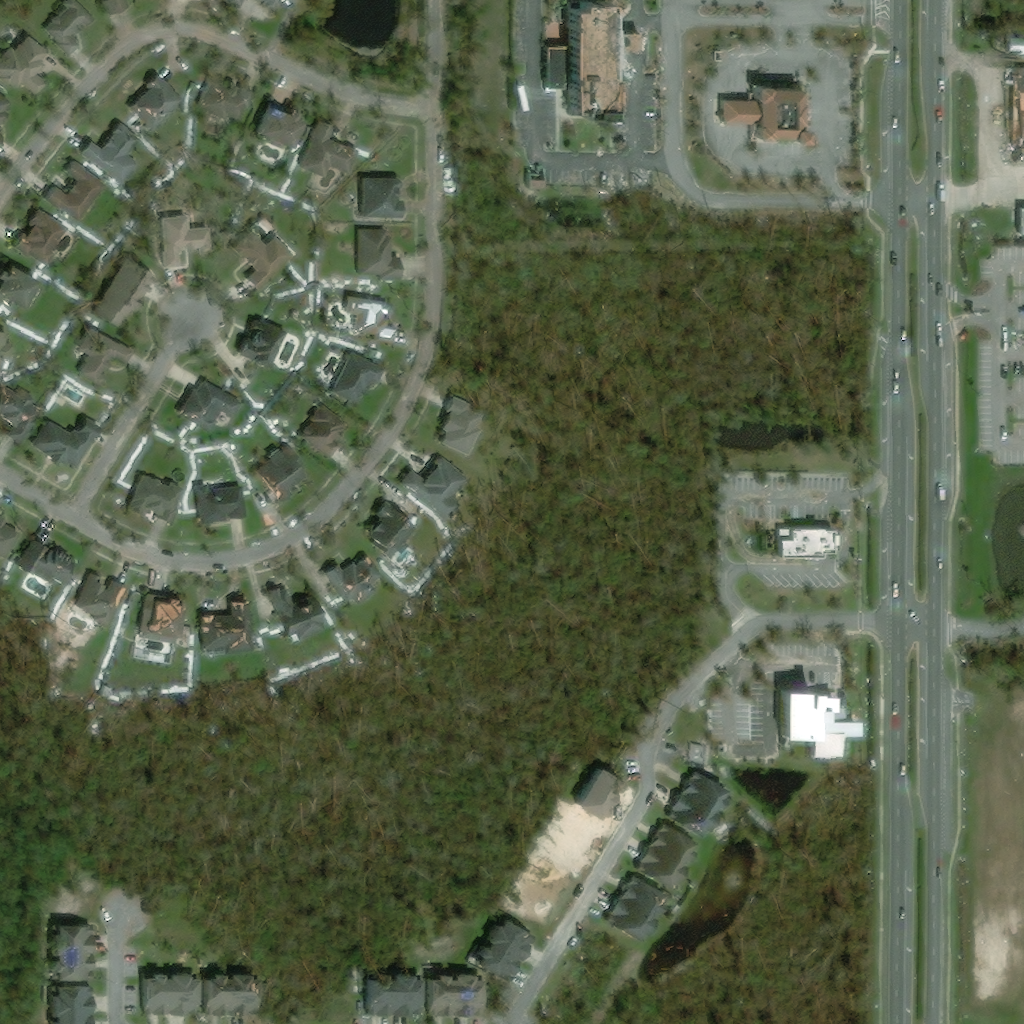minor_damage: (559, 2, 643, 120), (297, 120, 359, 180), (128, 74, 185, 133), (71, 571, 126, 630), (363, 501, 415, 560), (13, 209, 67, 265), (266, 585, 320, 640), (197, 598, 249, 654), (321, 555, 378, 604), (255, 449, 304, 503), (195, 81, 255, 124), (0, 388, 42, 443), (18, 543, 74, 583), (139, 598, 182, 645), (0, 264, 37, 310)
no_damage: (772, 689, 843, 761), (86, 257, 154, 332), (662, 769, 729, 842), (599, 874, 668, 944), (467, 919, 535, 985), (635, 823, 698, 892), (720, 85, 794, 141), (230, 230, 294, 292), (43, 161, 107, 222), (397, 452, 463, 509), (30, 417, 98, 469), (175, 378, 240, 432), (74, 328, 134, 386), (158, 207, 213, 268), (79, 121, 133, 183), (328, 351, 384, 409), (235, 312, 288, 369), (41, 0, 93, 57), (126, 473, 183, 525), (0, 35, 47, 96), (45, 924, 93, 980), (422, 974, 483, 1018), (298, 402, 344, 459), (436, 396, 481, 452), (363, 973, 420, 1017), (249, 105, 304, 149), (343, 295, 391, 344), (139, 973, 195, 1014), (199, 973, 251, 1016), (193, 482, 245, 523), (770, 523, 828, 557), (46, 984, 91, 1023), (360, 178, 402, 218), (357, 229, 389, 275), (0, 516, 20, 560), (0, 331, 14, 369), (98, 0, 128, 17), (1013, 109, 1023, 140), (255, 0, 277, 13), (0, 96, 11, 120), (1004, 44, 1023, 56), (1016, 207, 1023, 235), (224, 0, 242, 7)
